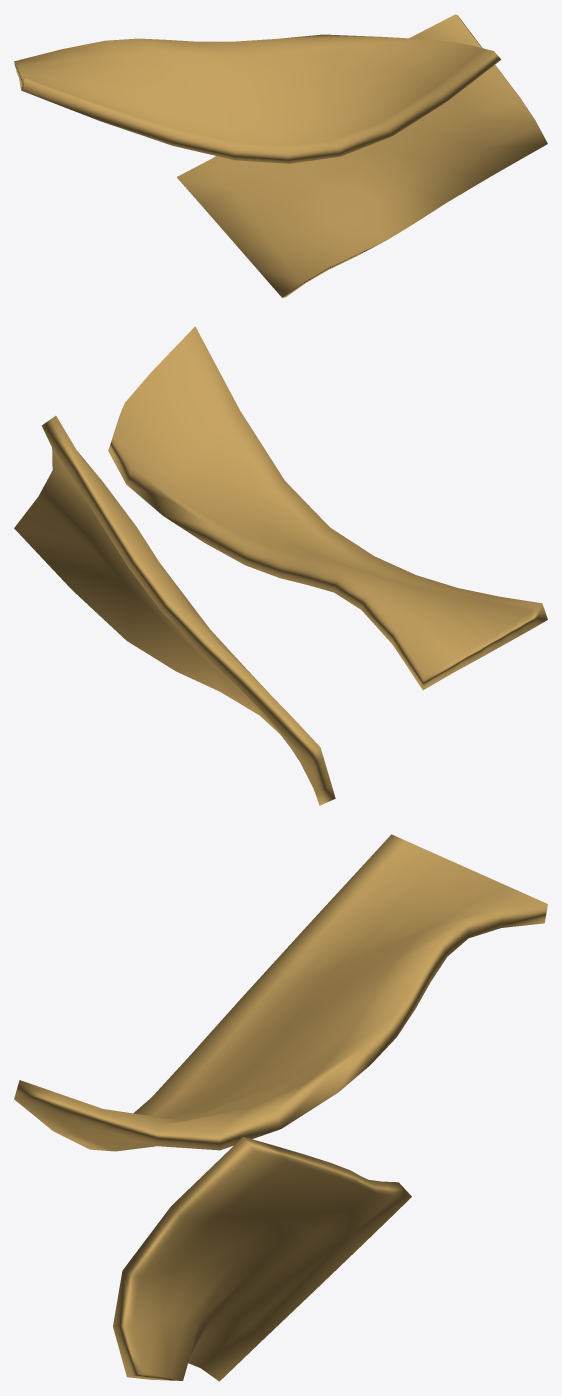
The picture shows the model from 3 angles, top to bottom: view 1: azimuth 30°, elevation 25°; view 2: azimuth 150°, elevation 25°; view 3: azimuth 270°, elevation 25°; orthographic projection. The views are drawn at different scales.
Visible parts, largest first — view 1: 右侧距跟骨间韧带; view 2: 右侧距跟骨间韧带; view 3: 右侧距跟骨间韧带.
Part boxes in pixels (box(x1,y1,x2,y2)): 右侧距跟骨间韧带: box(14, 14, 547, 297); 右侧距跟骨间韧带: box(14, 326, 547, 805); 右侧距跟骨间韧带: box(14, 834, 547, 1381).
Bounding box in the file's own units: 0.0309 × 0.0168 × 0.0193.
